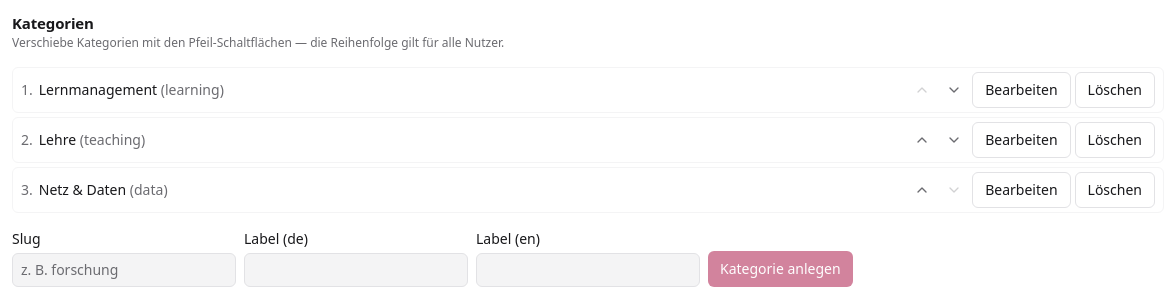
Test case: CategoriesAdmin — edit, delete and reorder (issue #130) › cancels an edit without writing
Click the button "Bearbeiten" in the row of "Lehre" at (1021, 140), box x1=972 y1=122 x2=1071 y2=158
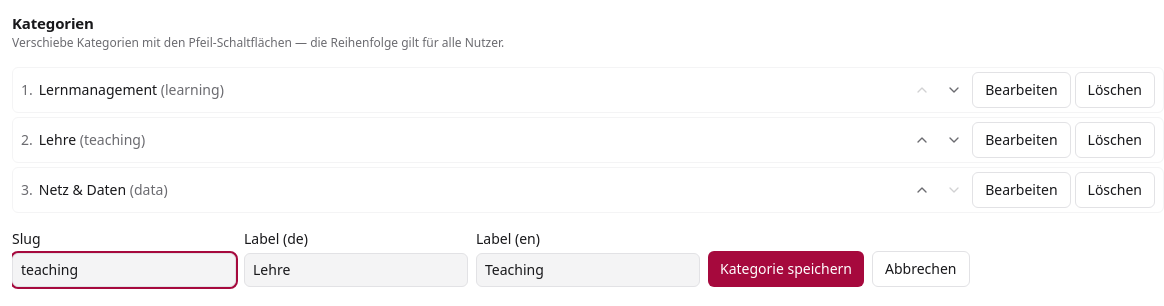
Replace the text in the field labelled "Label (de)" with "Etwas anderes" at (356, 270), box x1=244 y1=252 x2=468 y2=286
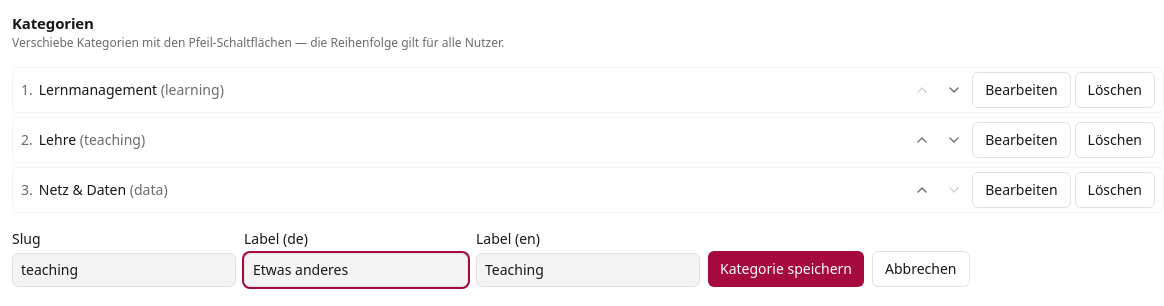
Click the button "Abbrechen" at (921, 268), box x1=872 y1=250 x2=970 y2=286
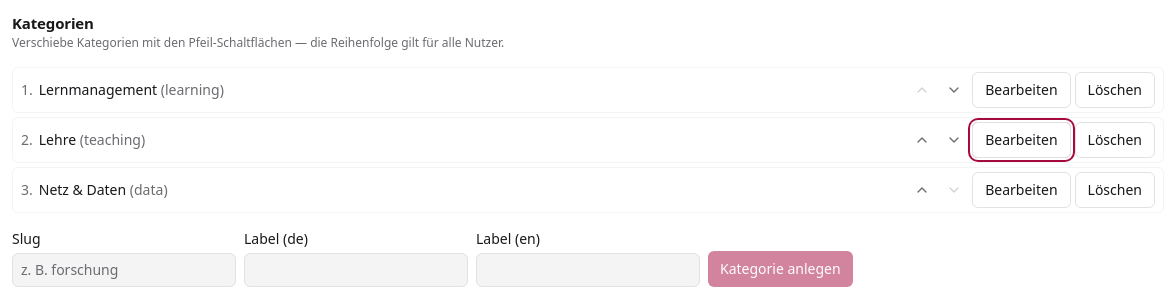
Check: the button "Kategorie speichern" is gone
